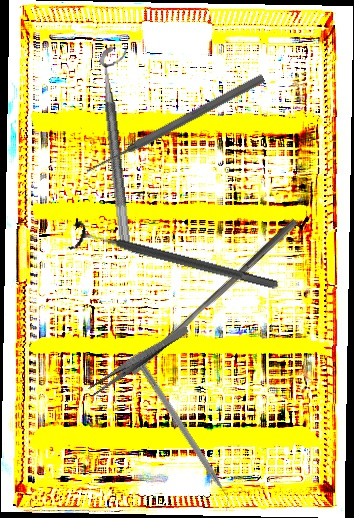Chopper: (130, 362, 237, 514)
Dressing Forceps: (87, 322, 190, 398)
Fixation Ring: (66, 217, 282, 302), (97, 44, 148, 245)
Pusher: (128, 211, 299, 382), (83, 71, 267, 178)
